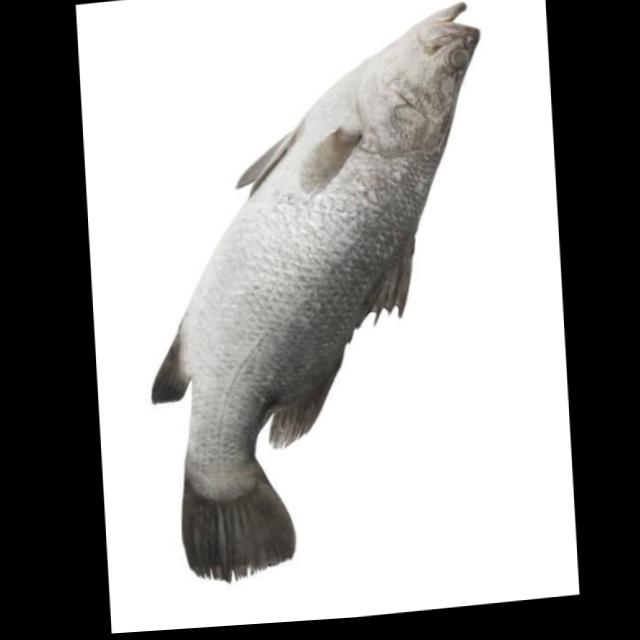Seabass: (129, 0, 509, 587)
